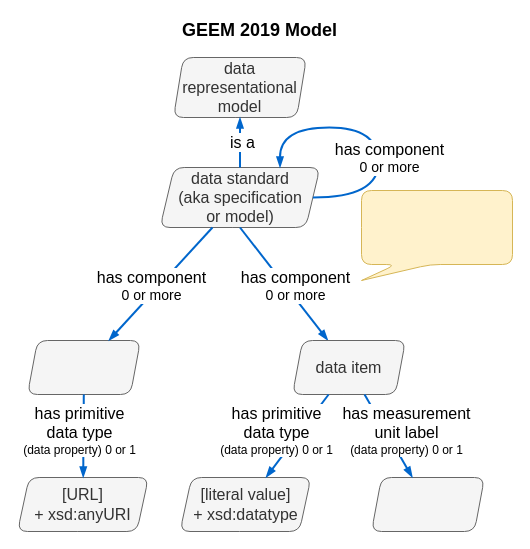
The diagram is 530 pixels wide and 549 high, and some of its shapes have lost their labels. Each missing label, with the centre of its shape:
"3rd party field specifications are annotated onto this relation" goes at (x=436, y=235).
"categorical tree specification" goes at (x=83, y=367).
"unit ontology term" goes at (x=427, y=504).
